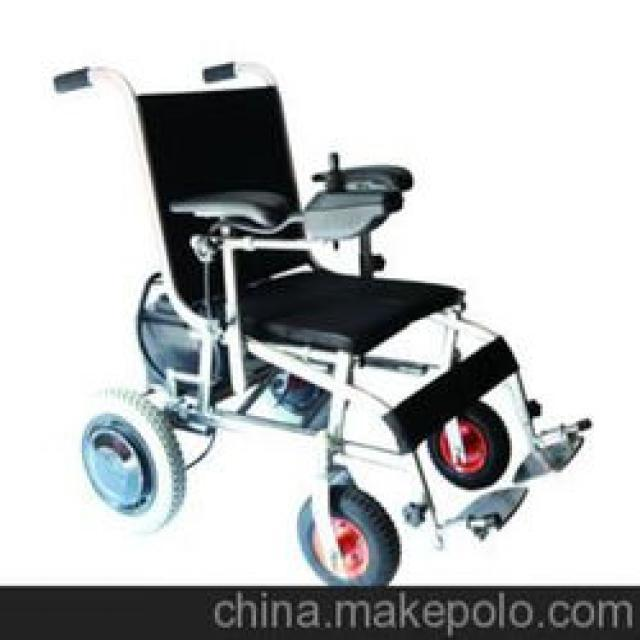wheelchair: (39, 42, 596, 586)
